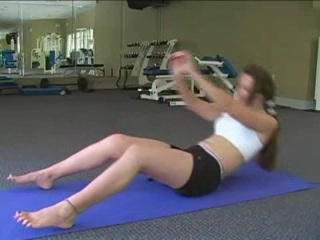sit_up: (0, 34, 289, 240)
